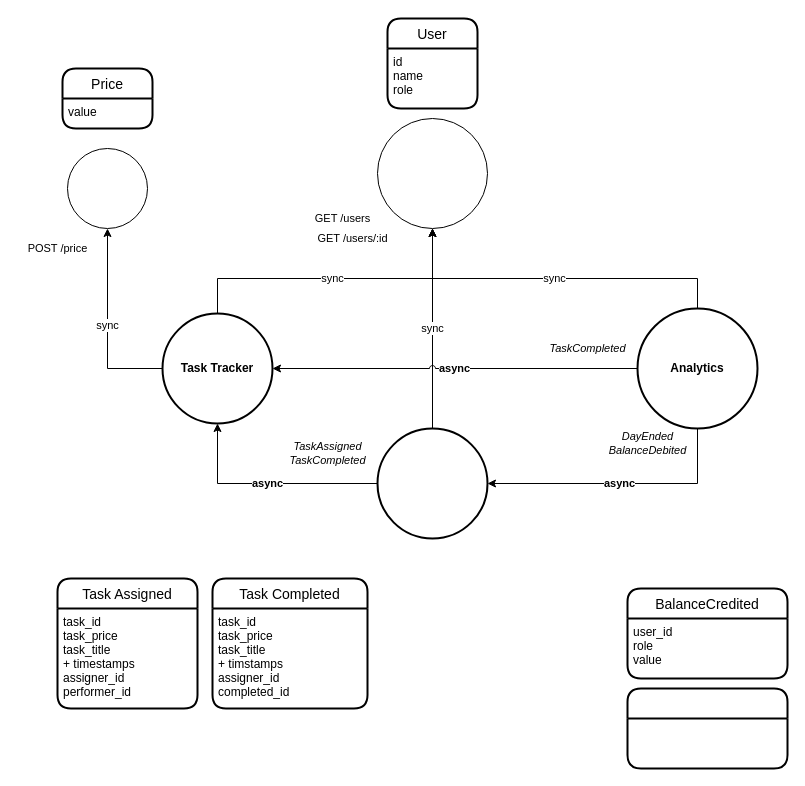
This 805x786 diagram has some shape labels left out. Each missing label, with the centre of its shape:
Accounting: point (432, 483)
DayEnded: point (707, 728)
Price Service: point (107, 188)
Users Service: point (432, 173)
